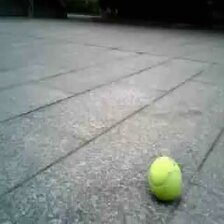tennis: (149, 157, 182, 198)
